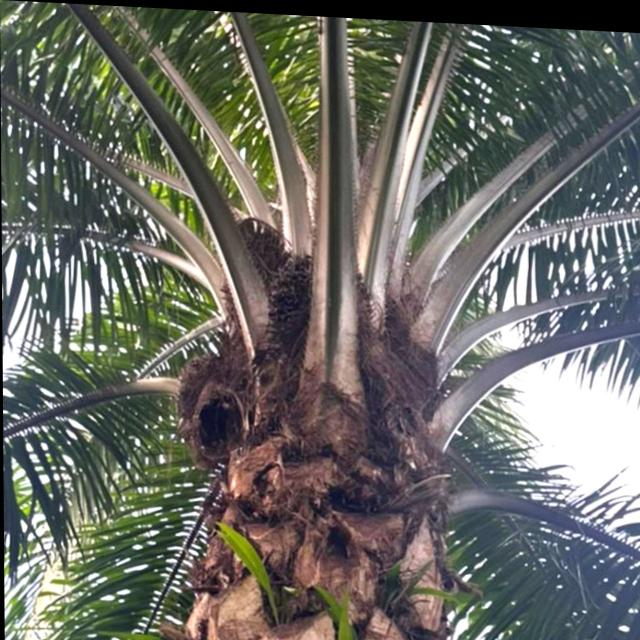almost: (266, 246, 375, 371)
